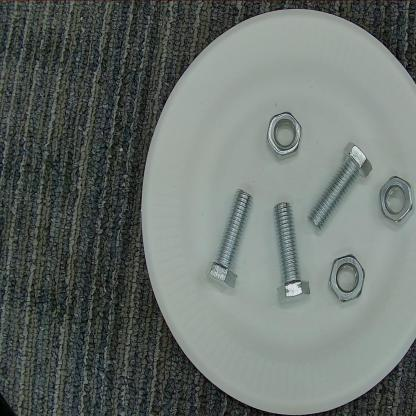FOD: (308, 136, 376, 240), (206, 182, 257, 294), (266, 191, 311, 307), (257, 109, 310, 169), (325, 246, 369, 310), (373, 175, 415, 231)
